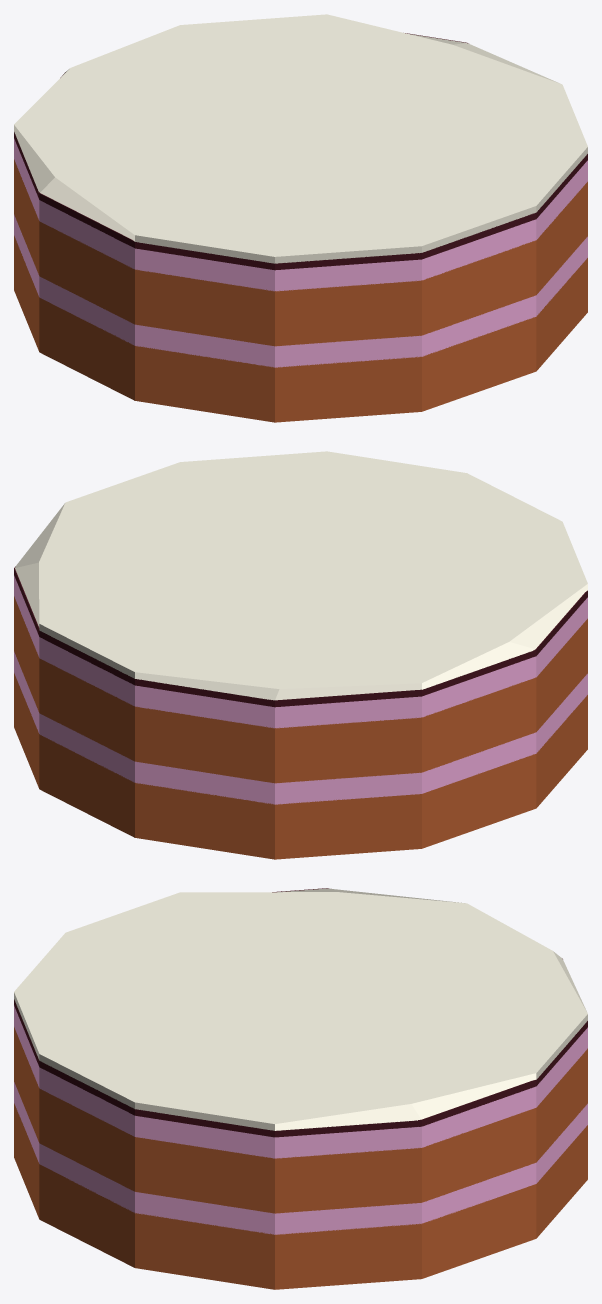
3 renders of one model, top to bottom at view 1: azimuth 30°, elevation 25°; view 2: azimuth 150°, elevation 25°; view 3: azimuth 270°, elevation 25°, orthographic.
Parts seen in each view (by area): view 1: Cylinder.005, Cylinder, Cylinder.001, Cylinder.002, Cylinder.003, Cylinder.004; view 2: Cylinder.005, Cylinder, Cylinder.001, Cylinder.002, Cylinder.003, Cylinder.004; view 3: Cylinder.005, Cylinder, Cylinder.001, Cylinder.003, Cylinder.002, Cylinder.004.
Boxes of the visible parts, left/top/right/bottom form: Cylinder.005: left=14, top=14, right=587, bottom=263; Cylinder: left=14, top=235, right=587, bottom=422; Cylinder.001: left=14, top=159, right=587, bottom=346; Cylinder.002: left=14, top=214, right=587, bottom=367; Cylinder.003: left=14, top=138, right=587, bottom=291; Cylinder.004: left=14, top=33, right=587, bottom=270; Cylinder.005: left=15, top=451, right=587, bottom=700; Cylinder: left=14, top=673, right=587, bottom=859; Cylinder.001: left=14, top=596, right=587, bottom=783; Cylinder.002: left=14, top=651, right=587, bottom=804; Cylinder.003: left=14, top=575, right=587, bottom=728; Cylinder.004: left=14, top=566, right=587, bottom=707; Cylinder.005: left=14, top=888, right=587, bottom=1130; Cylinder: left=14, top=1103, right=587, bottom=1289; Cylinder.001: left=14, top=1027, right=587, bottom=1213; Cylinder.003: left=14, top=1005, right=587, bottom=1158; Cylinder.002: left=14, top=1082, right=587, bottom=1234; Cylinder.004: left=14, top=888, right=587, bottom=1137.
Size of the model in its own units: 1.51 by 0.4854 by 1.51.
